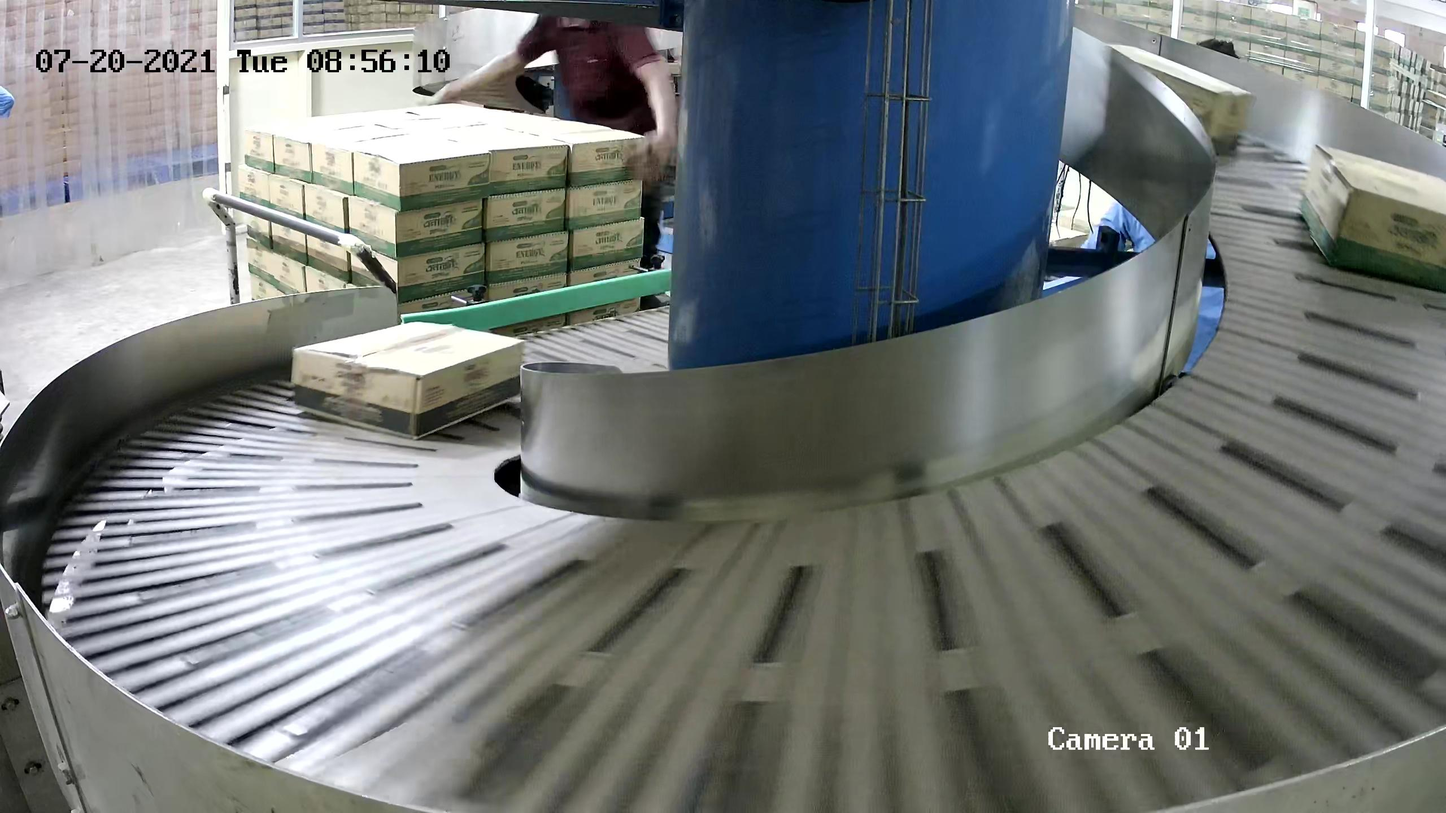Box: (290, 320, 526, 441), (1298, 142, 1446, 294), (1102, 43, 1256, 151)
